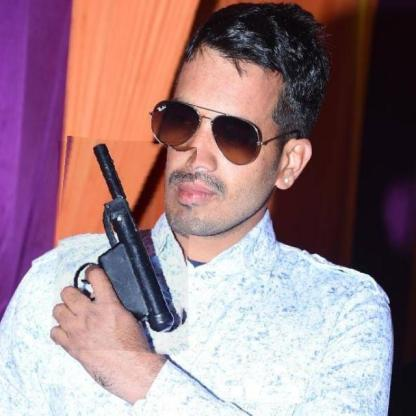handgun: (53, 138, 193, 353)
